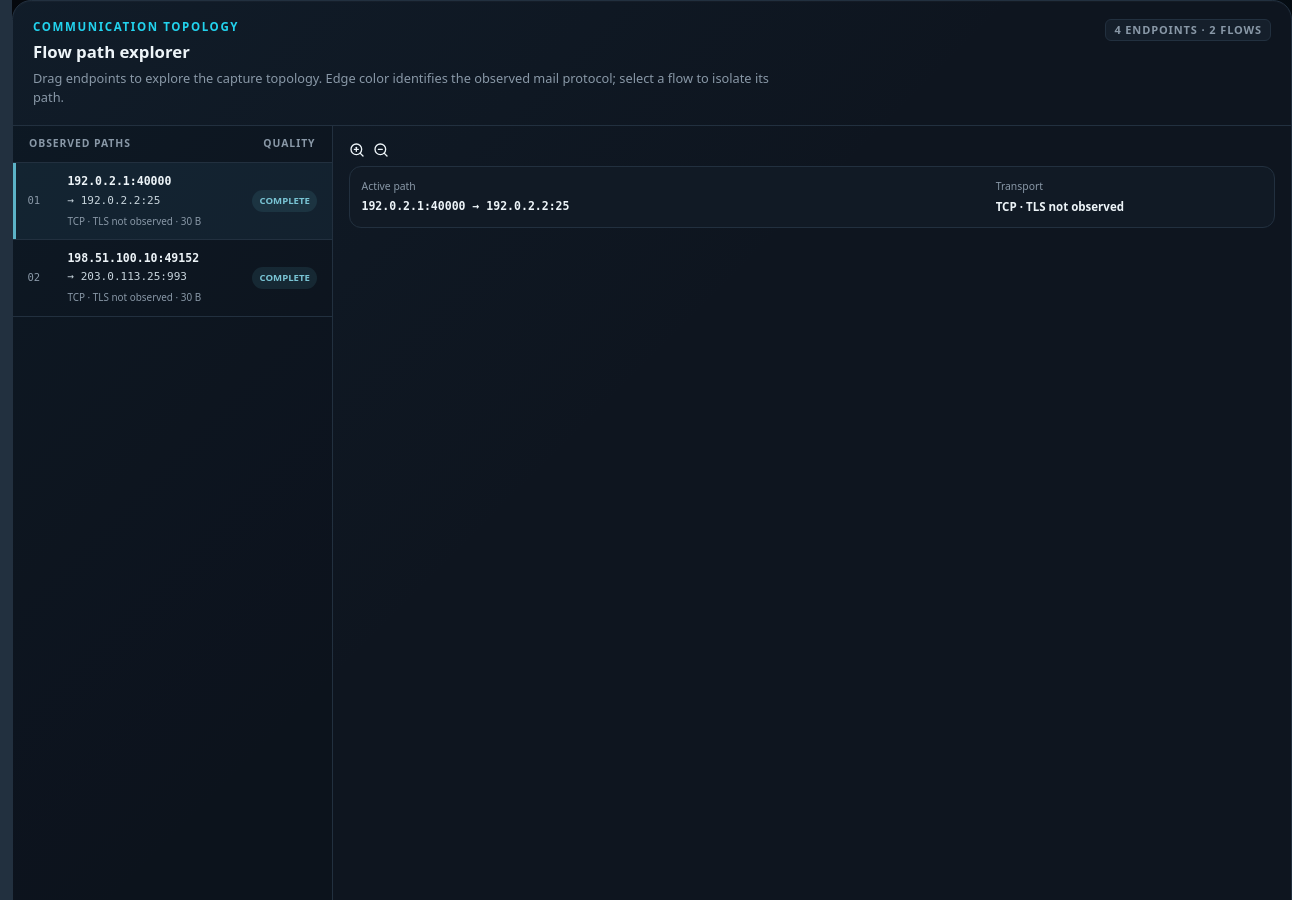
Scenario: FlowTopology › highlights the graph path for the hovered list entry
Step 1. Hover over the button with aria-label "Flow 2:" → (172, 278), box [13,240,332,317]
(page scrolled)
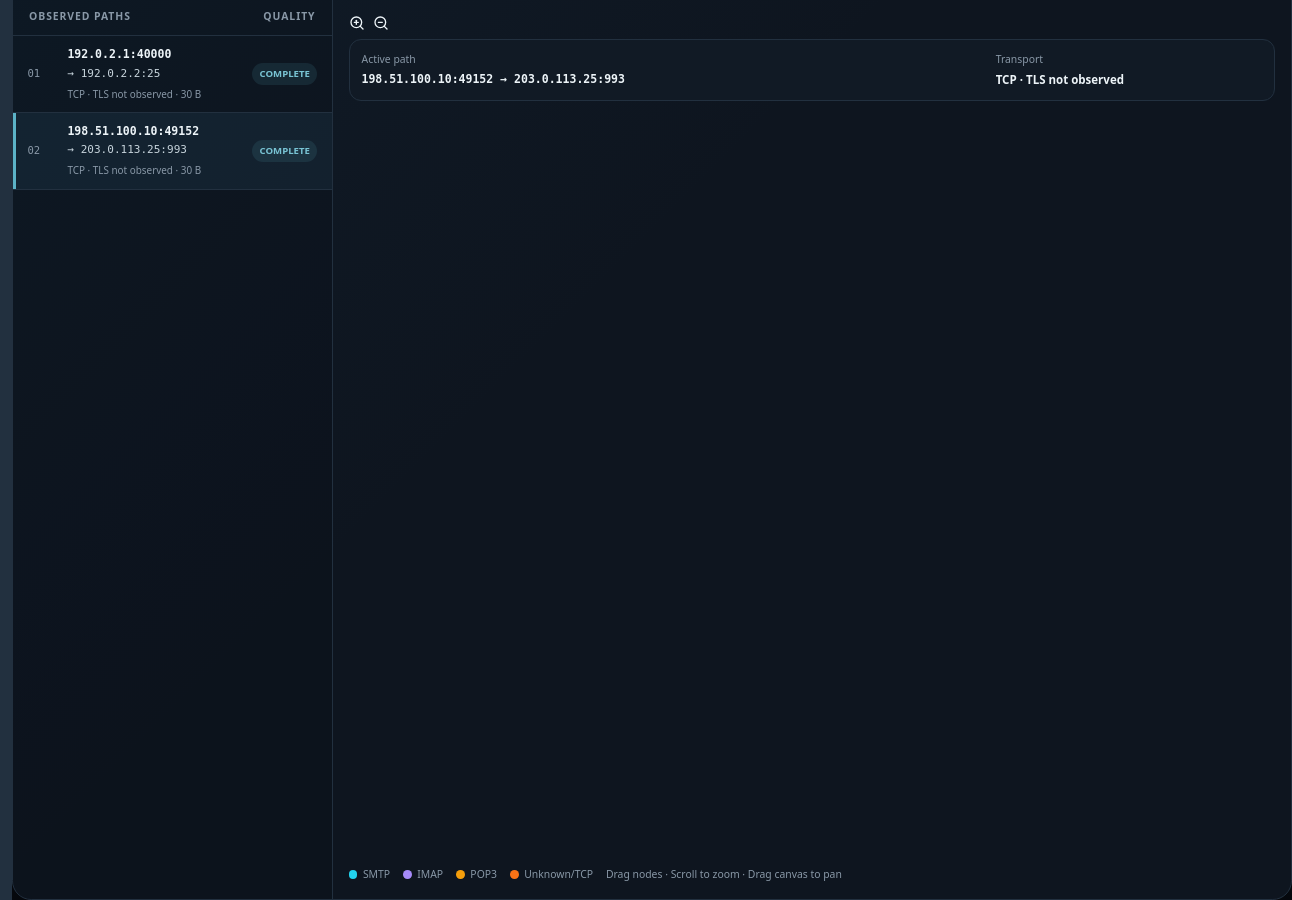
Expected: the picture named "Network graph highlighting 198.51.100.10:49152 through TCP t" is shown
